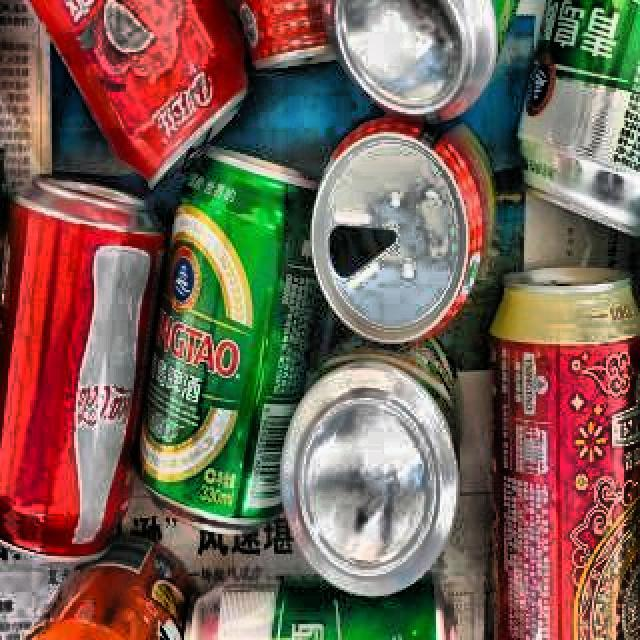metal: (128, 144, 340, 538), (0, 180, 192, 564), (482, 264, 640, 640), (300, 116, 546, 354), (272, 350, 478, 606), (0, 0, 256, 198), (324, 0, 576, 120), (510, 0, 640, 226), (182, 570, 470, 640), (0, 560, 184, 640)
